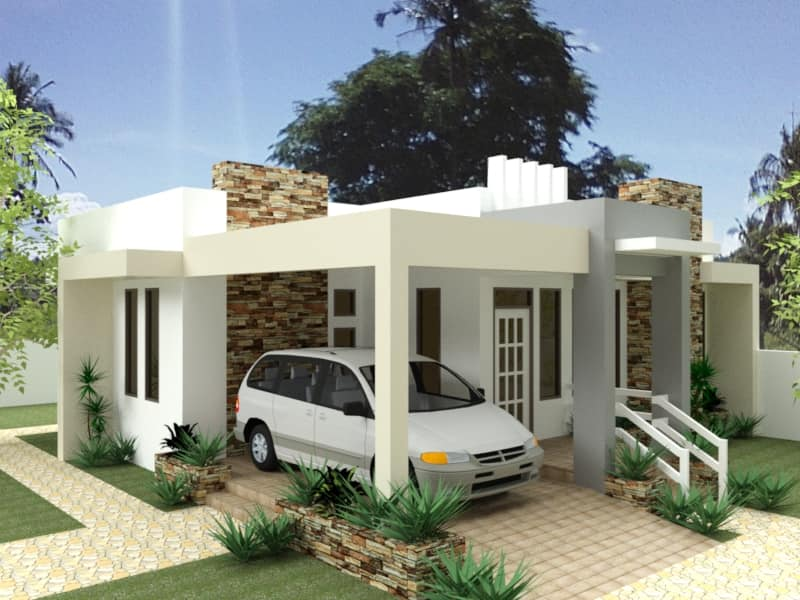Building House: (49, 154, 764, 473)
